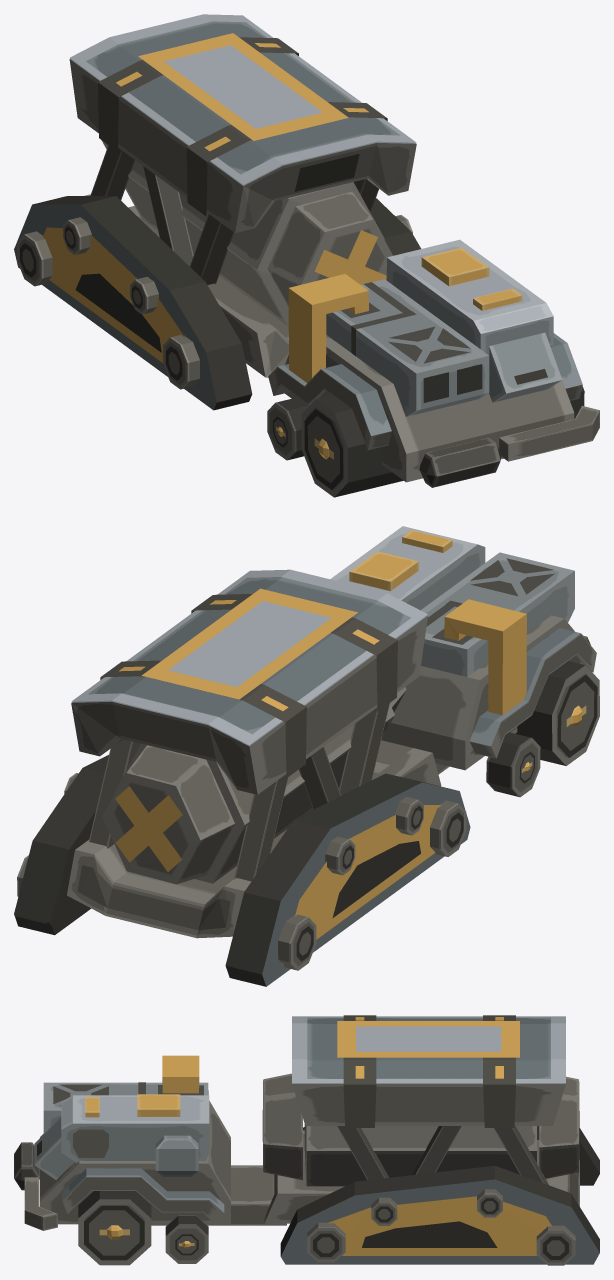
File: truck4.FBX
The picture shows the model from 3 angles, top to bottom: view 1: azimuth 30°, elevation 25°; view 2: azimuth 150°, elevation 25°; view 3: azimuth 270°, elevation 25°; orthographic projection. The views are drawn at different scales.
Parts seen in each view (by area): view 1: truck4, i_ncl1_1, g, a, f, c, b, e, j, i, k, m; view 2: truck4, i_ncl1_1, h, a, f, b, i, e, j, m, k; view 3: truck4, i_ncl1_1, a, g, h, b, d, f, i, j, e, c (+2 smaller).
Boxes of the visible parts, <box> form: truck4: <box>69,14,599,482</box>; i_ncl1_1: <box>14,196,421,410</box>; g: <box>267,191,392,306</box>; a: <box>301,386,584,497</box>; f: <box>288,274,368,382</box>; c: <box>419,437,501,487</box>; b: <box>267,397,310,460</box>; e: <box>421,247,489,286</box>; j: <box>163,335,199,389</box>; i: <box>17,231,52,286</box>; k: <box>130,215,412,314</box>; m: <box>63,217,91,254</box>; truck4: <box>67,526,596,938</box>; i_ncl1_1: <box>14,755,470,986</box>; h: <box>102,745,234,884</box>; a: <box>515,661,599,765</box>; f: <box>444,599,526,715</box>; b: <box>486,732,540,797</box>; i: <box>17,855,316,970</box>; e: <box>349,551,418,591</box>; j: <box>430,800,466,856</box>; m: <box>64,773,355,875</box>; k: <box>394,796,423,835</box>; truck4: <box>24,1015,579,1230</box>; i_ncl1_1: <box>280,1127,599,1264</box>; a: <box>78,1191,151,1265</box>; g: <box>262,1073,302,1180</box>; h: <box>539,1076,579,1178</box>; b: <box>165,1215,208,1263</box>; d: <box>155,1135,198,1176</box>; f: <box>162,1055,199,1093</box>; i: <box>536,1225,575,1265</box>; j: <box>307,1222,345,1262</box>; e: <box>137,1094,180,1116</box>; c: <box>14,1142,39,1190</box>.
Bounding box in the file's own units: 57.45 × 137 × 46.77.
